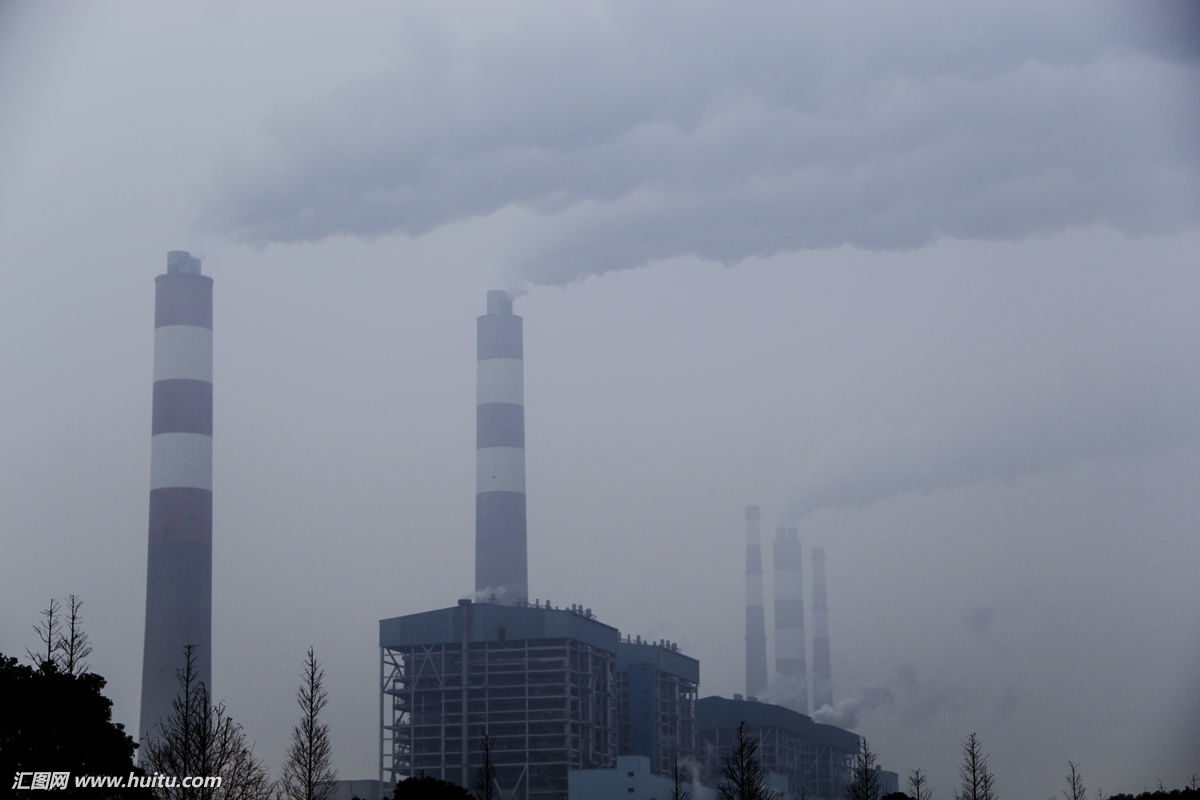dust: (134, 91, 435, 284), (472, 146, 789, 326)
